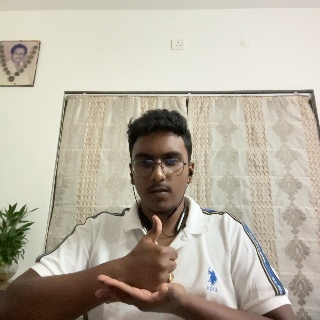Face: (128, 114, 197, 210)
Help: (109, 216, 188, 310)
